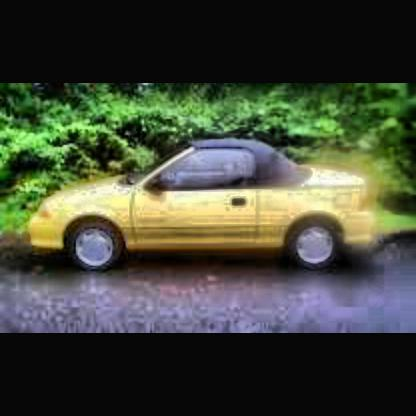Geo Metro Convertible 1993: (29, 136, 379, 266)
